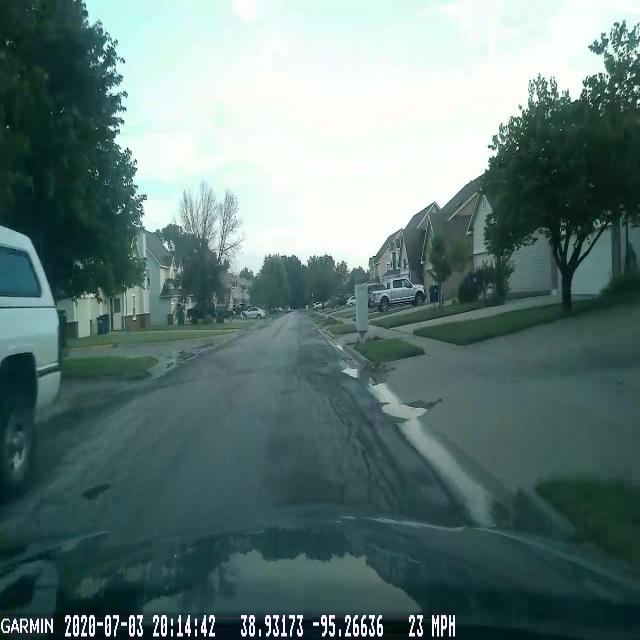Pothole: (332, 352, 370, 391), (78, 476, 114, 506)
